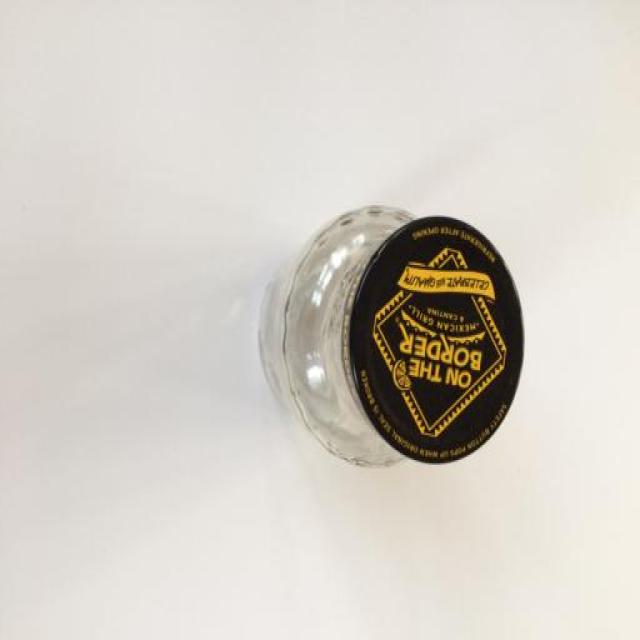glass: (260, 208, 406, 467)
